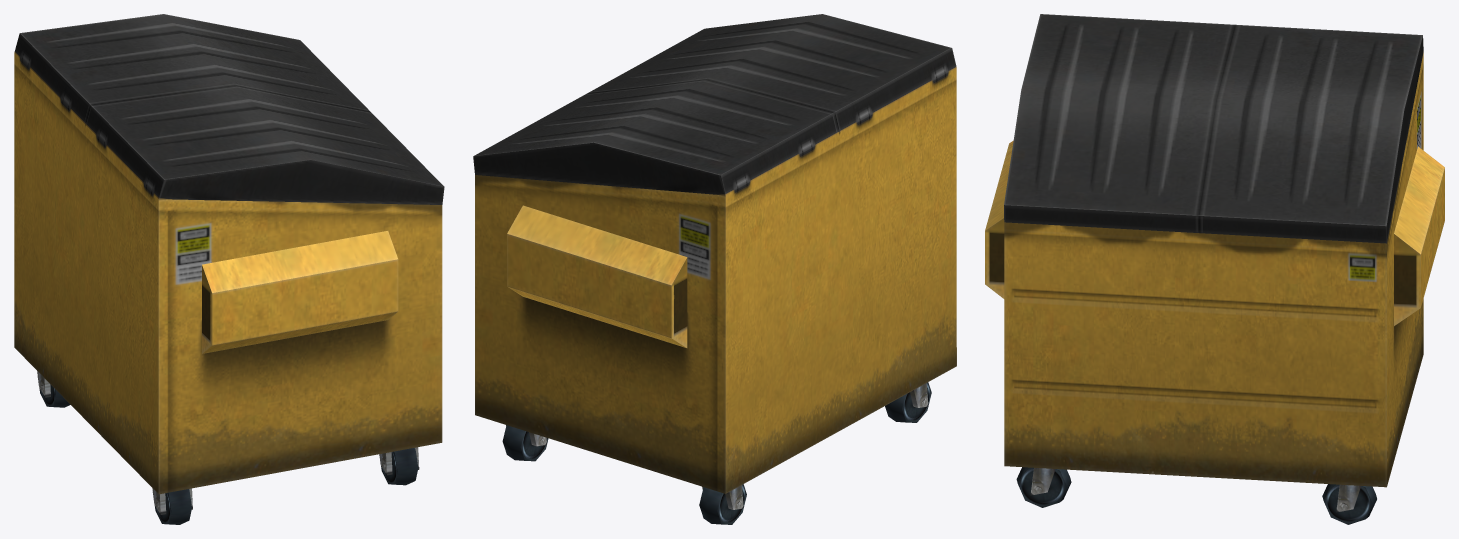
Rendered from obst_garbageBin_anim.fbx.
3 renders of one model, left to right at view 1: azimuth 30°, elevation 25°; view 2: azimuth 150°, elevation 25°; view 3: azimuth 270°, elevation 25°, orthographic. The views are drawn at different scales.
Visible parts, largest first — view 1: obst_garbageBin_animated; view 2: obst_garbageBin_animated; view 3: obst_garbageBin_animated.
Boxes of the visible parts, x1,y1,x2,y2 form: obst_garbageBin_animated: (14,14,444,524); obst_garbageBin_animated: (473,14,956,524); obst_garbageBin_animated: (985,14,1444,524).
Bounding box in the file's own units: 139 × 157 × 175.
